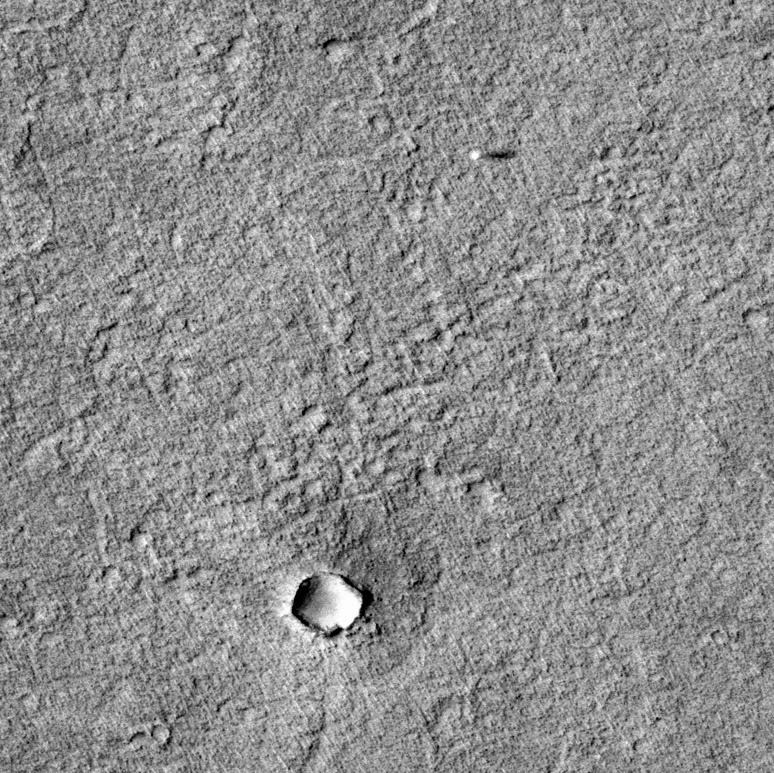dust_devil: (467, 146, 518, 162)
